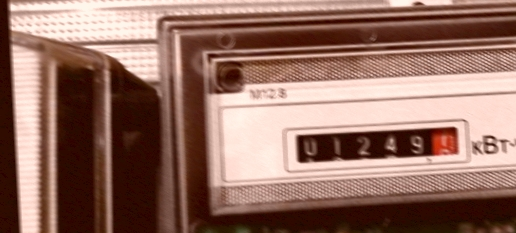0: (303, 136, 318, 156)
1: (330, 134, 343, 156)
2: (355, 134, 372, 156)
4: (384, 132, 398, 153)
7: (437, 126, 451, 147)
9: (410, 133, 424, 155)
screen: (280, 114, 473, 174)
